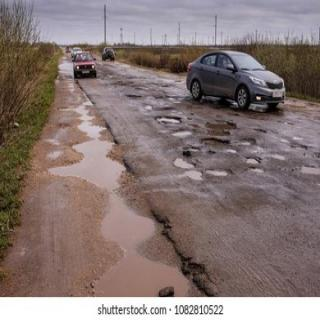pothole: (171, 156, 199, 172), (207, 121, 237, 135), (203, 138, 232, 148), (155, 117, 182, 124), (246, 156, 262, 165), (127, 92, 141, 102)
